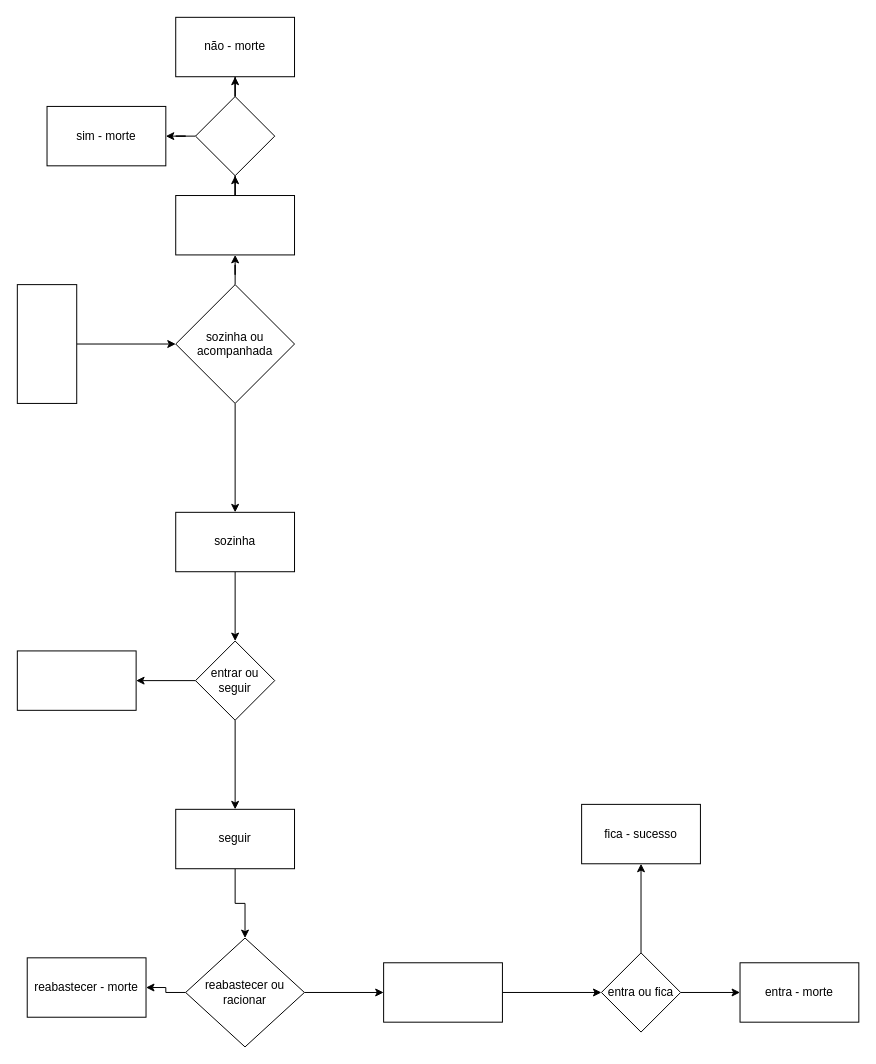
This 876x1064 diagram has some shape labels left out. Here are the shapes that lost their labels. From the top down, the centre of each, then its label:
At pixel 235 136: "responder - sim ou não".
At pixel 235 225: "acompanhada".
At pixel 46 343: "egito".
At pixel 76 680: "entrar - morte".
At pixel 442 992: "racionar".
